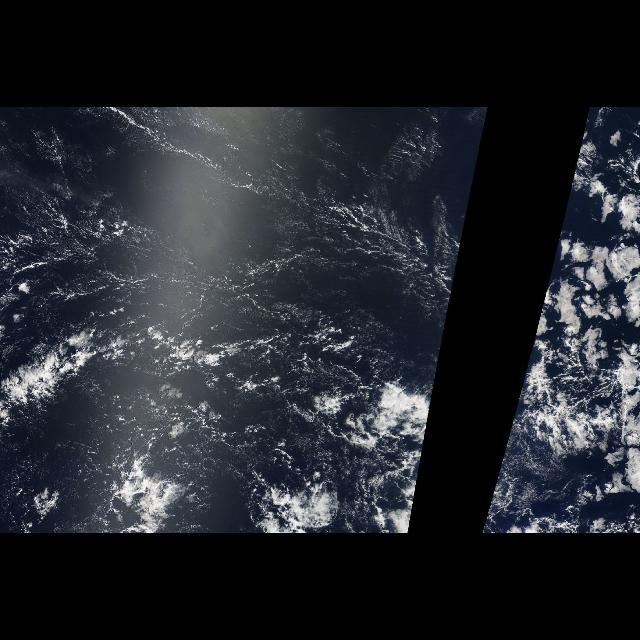Flower: (495, 184, 639, 482), (423, 184, 472, 450)
